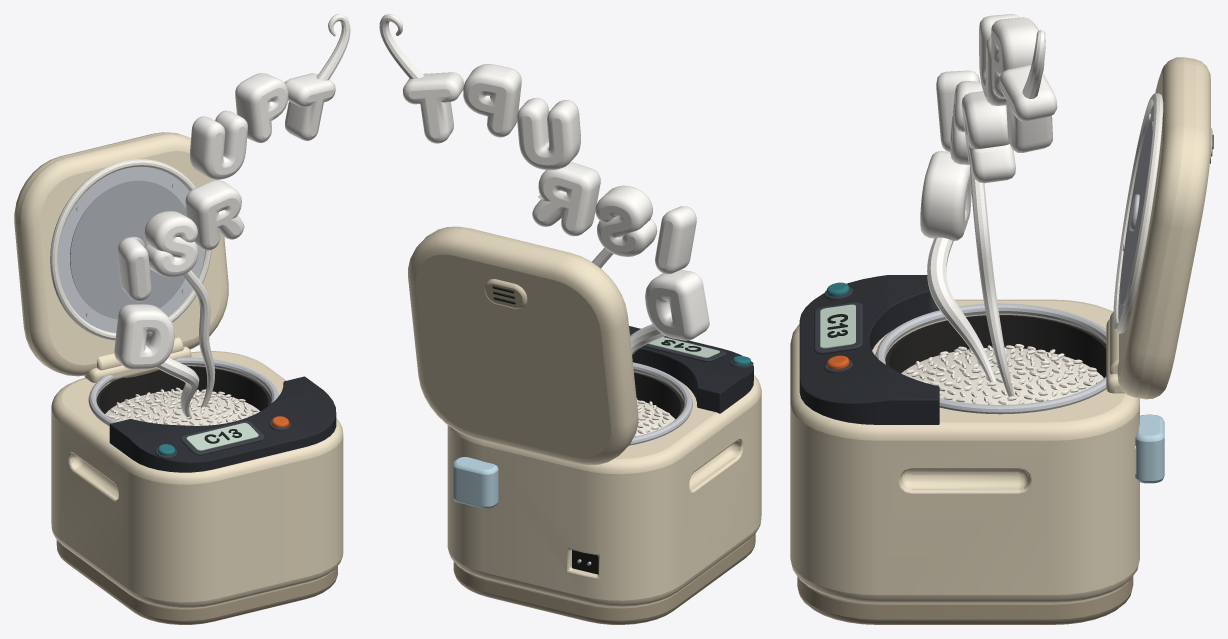
The model's file is rice-cooker.glb.
The picture shows the model from 3 angles, left to right: view 1: azimuth 30°, elevation 25°; view 2: azimuth 150°, elevation 25°; view 3: azimuth 270°, elevation 25°; orthographic projection. The views are drawn at different scales.
Visible parts, largest first — view 1: body, txt_D, lid, panel, inner_disc, cyl, base, grains, pot, gasket, lcd, lcd_frame; view 2: body, lid, txt_D, base, panel, cup, pot, cyl, grains, vent, lcd; view 3: body, txt_D, lid, panel, grains, base, pot, cyl, gasket, cup, inner_disc, lcd (+1 smaller).
Part boxes in pixels (x1=…): body: x1=51, y1=337, x2=343, y2=608; txt_D: x1=114, y1=14, x2=350, y2=419; lid: x1=14, y1=132, x2=228, y2=376; panel: x1=109, y1=376, x2=336, y2=472; inner_disc: x1=70, y1=180, x2=186, y2=319; cyl: x1=58, y1=167, x2=278, y2=425; base: x1=56, y1=540, x2=337, y2=624; grains: x1=105, y1=387, x2=260, y2=425; pot: x1=96, y1=366, x2=271, y2=413; gasket: x1=50, y1=159, x2=211, y2=340; lcd: x1=186, y1=423, x2=258, y2=450; lcd_frame: x1=180, y1=420, x2=264, y2=455; body: x1=447, y1=371, x2=761, y2=606; lid: x1=408, y1=226, x2=638, y2=465; txt_D: x1=379, y1=14, x2=709, y2=354; base: x1=453, y1=534, x2=755, y2=624; panel: x1=629, y1=326, x2=753, y2=413; cup: x1=452, y1=457, x2=498, y2=508; pot: x1=634, y1=372, x2=684, y2=418; cyl: x1=577, y1=362, x2=692, y2=565; grains: x1=634, y1=398, x2=675, y2=436; vent: x1=484, y1=279, x2=527, y2=308; lcd: x1=648, y1=337, x2=719, y2=357; body: x1=790, y1=299, x2=1139, y2=602; txt_D: x1=920, y1=14, x2=1057, y2=396; lid: x1=1117, y1=57, x2=1210, y2=399; panel: x1=799, y1=275, x2=939, y2=424; grains: x1=901, y1=344, x2=1103, y2=404; base: x1=797, y1=576, x2=1133, y2=624; pot: x1=885, y1=315, x2=1106, y2=377; cyl: x1=875, y1=105, x2=1153, y2=414; gasket: x1=1113, y1=93, x2=1163, y2=333; cup: x1=1135, y1=414, x2=1164, y2=483; inner_disc: x1=1120, y1=121, x2=1153, y2=305; lcd: x1=820, y1=304, x2=855, y2=348.
Bounding box in the file's own units: 0.3699 × 0.6151 × 0.3631.
